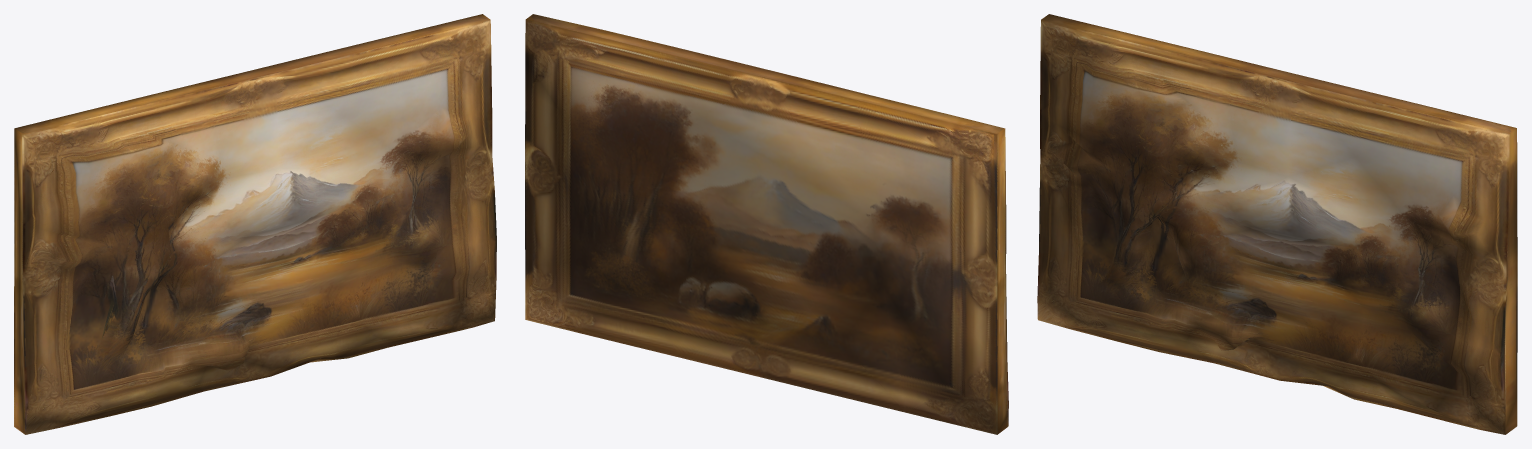
Rendered from Painting 2.glb.
3 views of the same model, side by side, from view 1: azimuth 30°, elevation 25°; view 2: azimuth 150°, elevation 25°; view 3: azimuth 330°, elevation 25° (orthographic).
Bounding box in the file's own units: 1.91 × 1.16 × 0.1717.
1 material, 1 textured.
